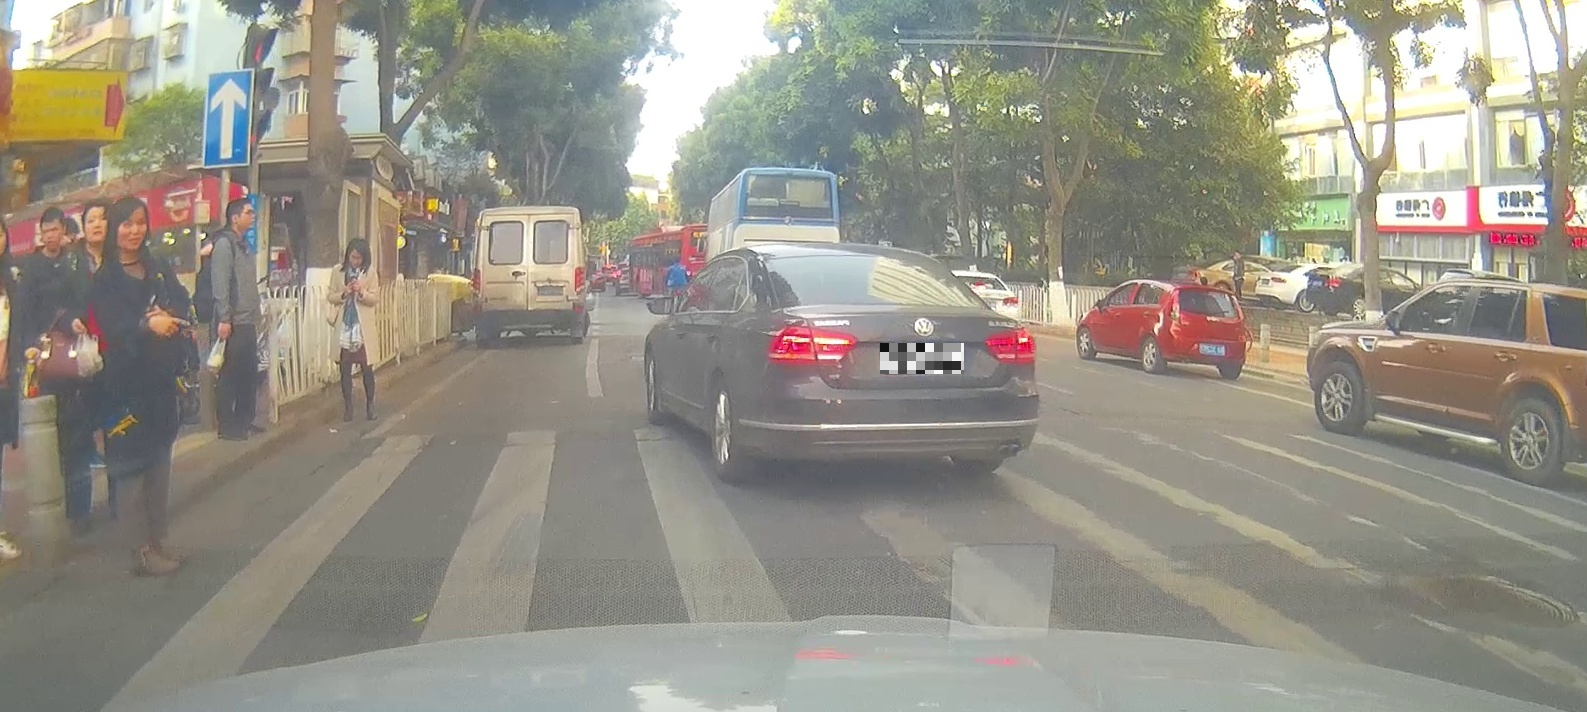L_light: (765, 327, 857, 367), (470, 268, 482, 299), (1169, 315, 1188, 326)
R_light: (984, 328, 1037, 365), (574, 267, 586, 293), (1230, 322, 1246, 332)
T_light: (847, 255, 880, 261), (522, 220, 536, 226), (1202, 290, 1216, 295)
day-no: (759, 244, 1039, 487), (470, 205, 586, 346), (1165, 284, 1246, 380)
plate_1: (880, 343, 964, 374)
